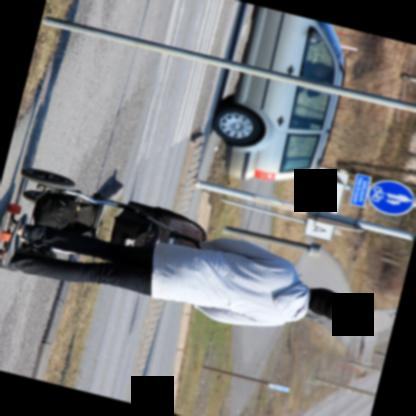backpack: (32, 190, 81, 229)
